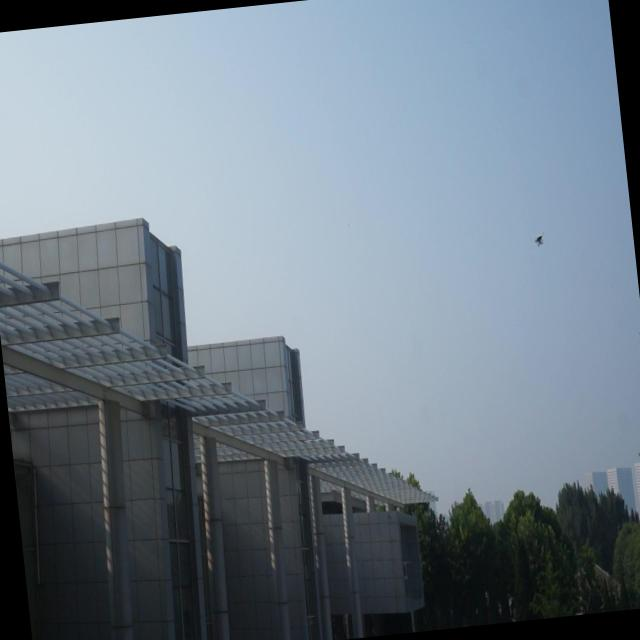drone: (532, 228, 546, 249)
